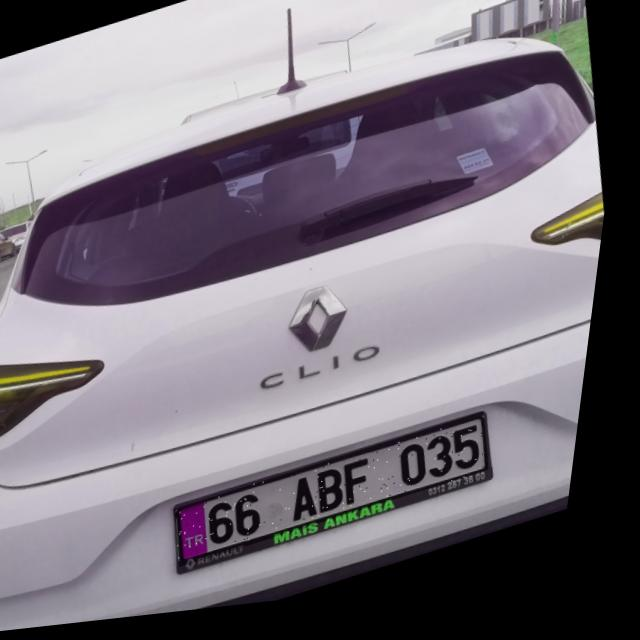license_plate: (182, 422, 508, 574)
